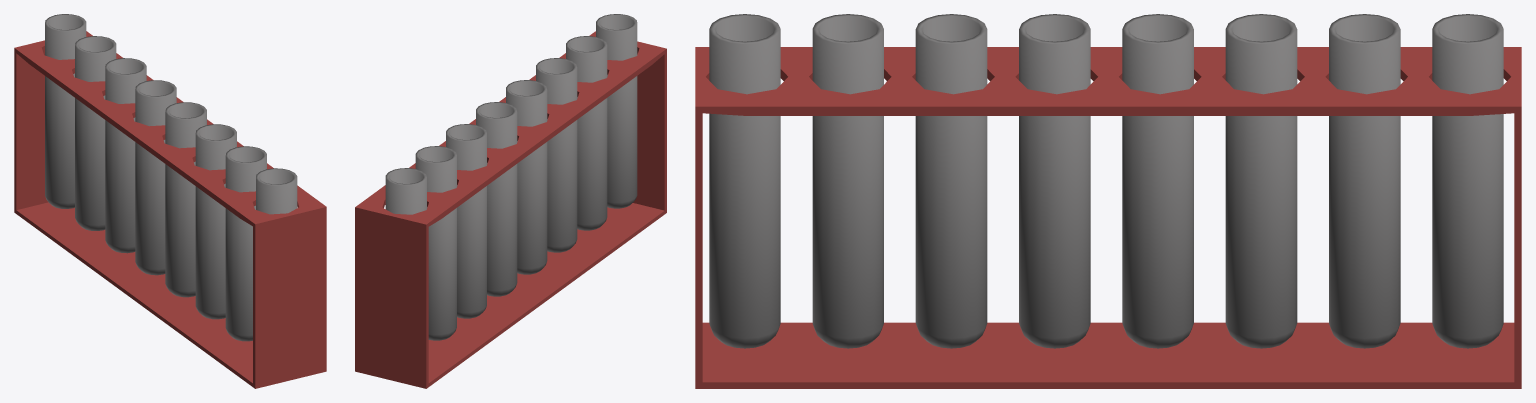
Rendered from test_tubes.glb.
The picture shows the model from 3 angles, left to right: view 1: azimuth 30°, elevation 25°; view 2: azimuth 150°, elevation 25°; view 3: azimuth 270°, elevation 25°; orthographic projection. The views are drawn at different scales.
Visible parts, largest first — view 1: testtubes, Cylinder.002, Cylinder.001, Cylinder.003, Cylinder.004, Cylinder.005, Cylinder.007, Cylinder, Cylinder.006; view 2: testtubes, Cylinder.003, Cylinder.006, Cylinder, Cylinder.002, Cylinder.001, Cylinder.004, Cylinder.005, Cylinder.007; view 3: testtubes, Cylinder.004, Cylinder.001, Cylinder.006, Cylinder.007, Cylinder.005, Cylinder, Cylinder.003, Cylinder.002.
Boxes of the visible parts, x1=… form: testtubes: x1=14, y1=31, x2=326, y2=388; Cylinder.002: x1=165, y1=102, x2=206, y2=297; Cylinder.001: x1=195, y1=124, x2=236, y2=319; Cylinder.003: x1=135, y1=80, x2=176, y2=275; Cylinder.004: x1=105, y1=58, x2=146, y2=253; Cylinder.005: x1=75, y1=36, x2=116, y2=230; Cylinder.007: x1=45, y1=14, x2=86, y2=208; Cylinder: x1=225, y1=146, x2=266, y2=341; Cylinder.006: x1=256, y1=168, x2=297, y2=214; testtubes: x1=355, y1=31, x2=666, y2=388; Cylinder.003: x1=476, y1=102, x2=517, y2=296; Cylinder.006: x1=596, y1=14, x2=637, y2=208; Cylinder: x1=566, y1=36, x2=607, y2=230; Cylinder.002: x1=506, y1=80, x2=547, y2=274; Cylinder.001: x1=536, y1=58, x2=577, y2=252; Cylinder.004: x1=446, y1=124, x2=486, y2=318; Cylinder.005: x1=415, y1=146, x2=456, y2=340; Cylinder.007: x1=385, y1=168, x2=426, y2=214; testtubes: x1=695, y1=47, x2=1521, y2=388; Cylinder.004: x1=1225, y1=14, x2=1297, y2=348; Cylinder.001: x1=915, y1=14, x2=987, y2=348; Cylinder.006: x1=709, y1=14, x2=780, y2=348; Cylinder.007: x1=1432, y1=14, x2=1503, y2=348; Cylinder.005: x1=1329, y1=14, x2=1400, y2=348; Cylinder: x1=812, y1=14, x2=883, y2=348; Cylinder.003: x1=1122, y1=14, x2=1193, y2=348; Cylinder.002: x1=1019, y1=14, x2=1090, y2=348.
Size of the model in its own units: 0.0685 by 0.1763 by 0.4.
